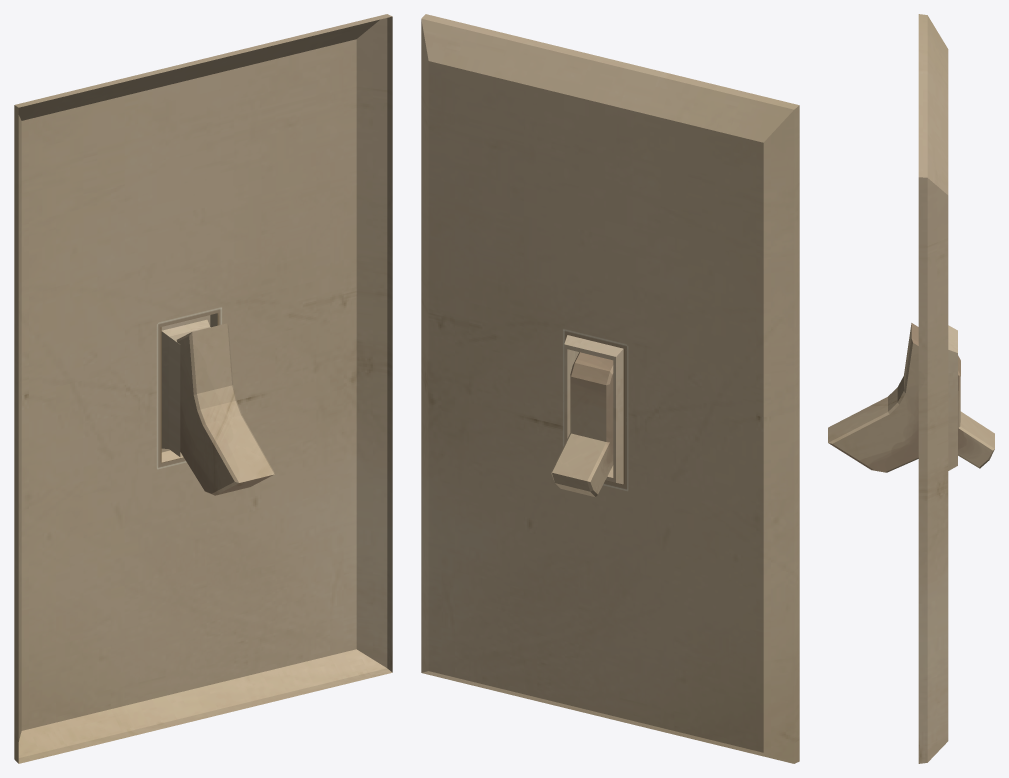
File: lightswitch.fbx
3 renders of one model, left to right at view 1: azimuth 30°, elevation 25°; view 2: azimuth 150°, elevation 25°; view 3: azimuth 270°, elevation 25°, orthographic. The views are drawn at different scales.
Visible parts, largest first — view 1: switch, Circle.001; view 2: switch, Circle.001; view 3: switch, Circle.001.
Boxes of the visible parts, left/top/right/bottom form: switch: left=14, top=14, right=392, bottom=763; Circle.001: left=176, top=323, right=274, bottom=495; switch: left=421, top=14, right=799, bottom=763; Circle.001: left=551, top=352, right=613, bottom=497; switch: left=918, top=14, right=957, bottom=763; Circle.001: left=828, top=323, right=994, bottom=472.
Bounding box in the file's own units: 28.23 × 47.34 × 12.21.
1 material, 1 textured.
